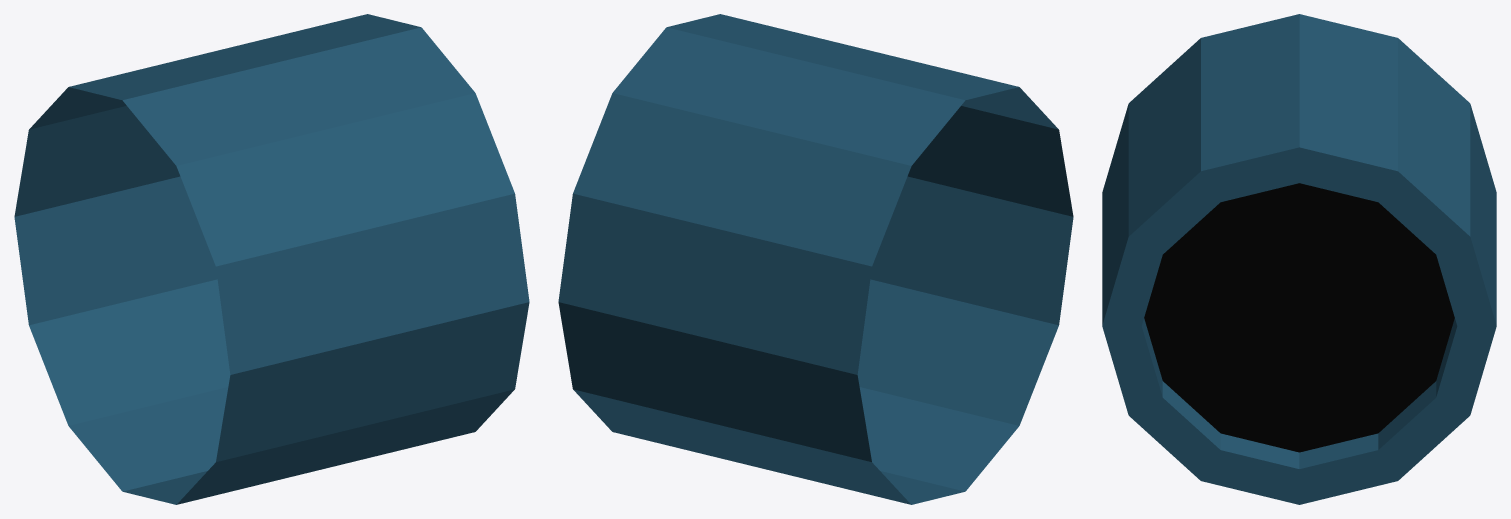
Rendered from pipe01.fbx.
The picture shows the model from 3 angles, left to right: view 1: azimuth 30°, elevation 25°; view 2: azimuth 150°, elevation 25°; view 3: azimuth 270°, elevation 25°; orthographic projection. The views are drawn at different scales.
Visible parts, largest first — view 1: pipe01; view 2: pipe01; view 3: pipe01.
Part boxes in pixels (x1,y1,x2,y2): pipe01: (14,14,529,504); pipe01: (558,14,1073,504); pipe01: (1102,14,1496,504).
Size of the model in its own units: 40 by 50 by 50.
